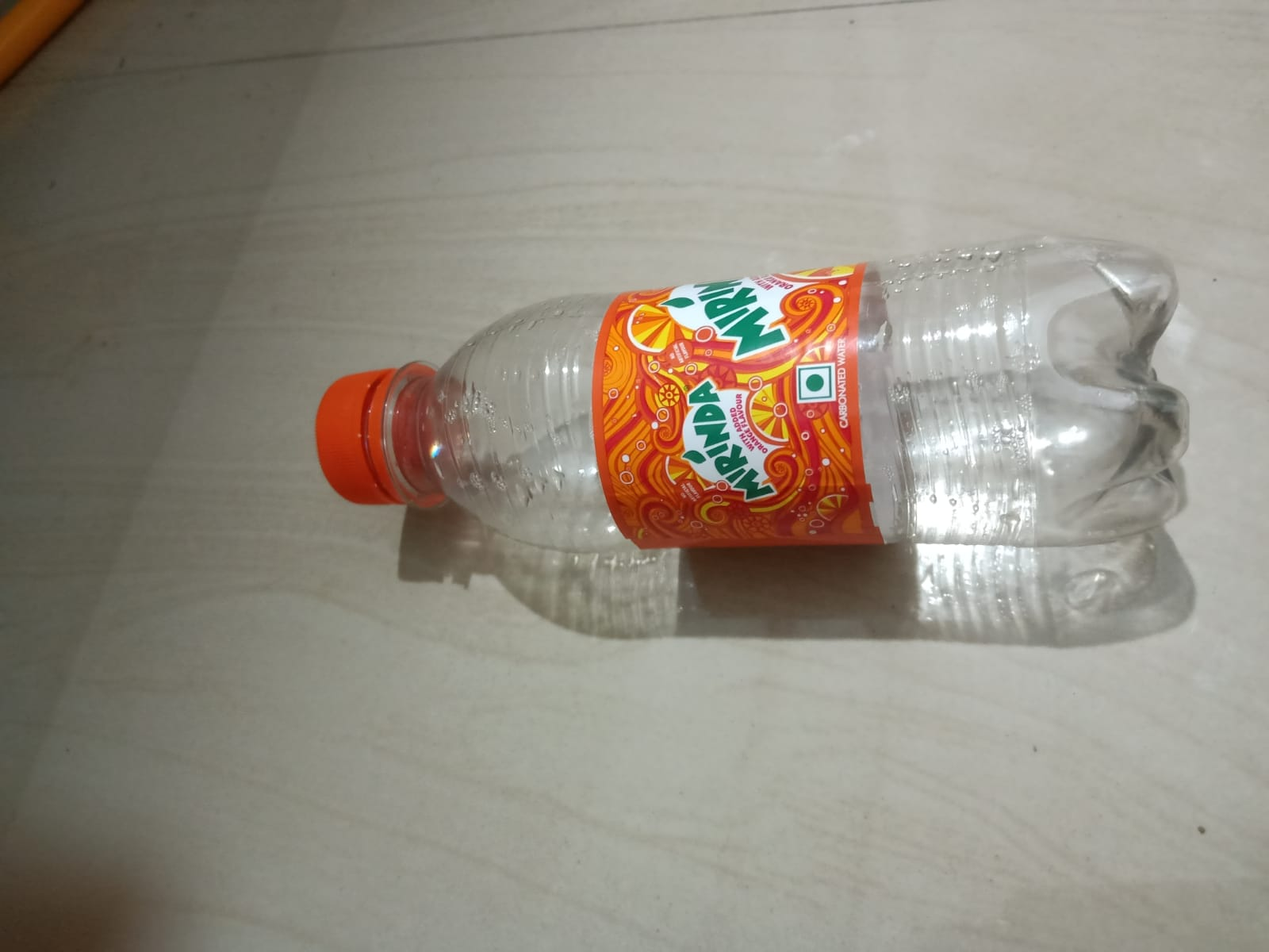plastic: (171, 226, 1269, 614)
